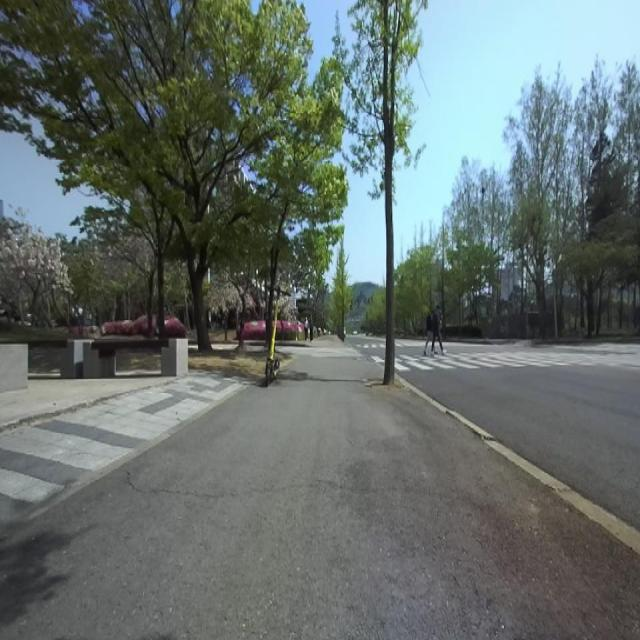sidewalk: (0, 338, 640, 638)
